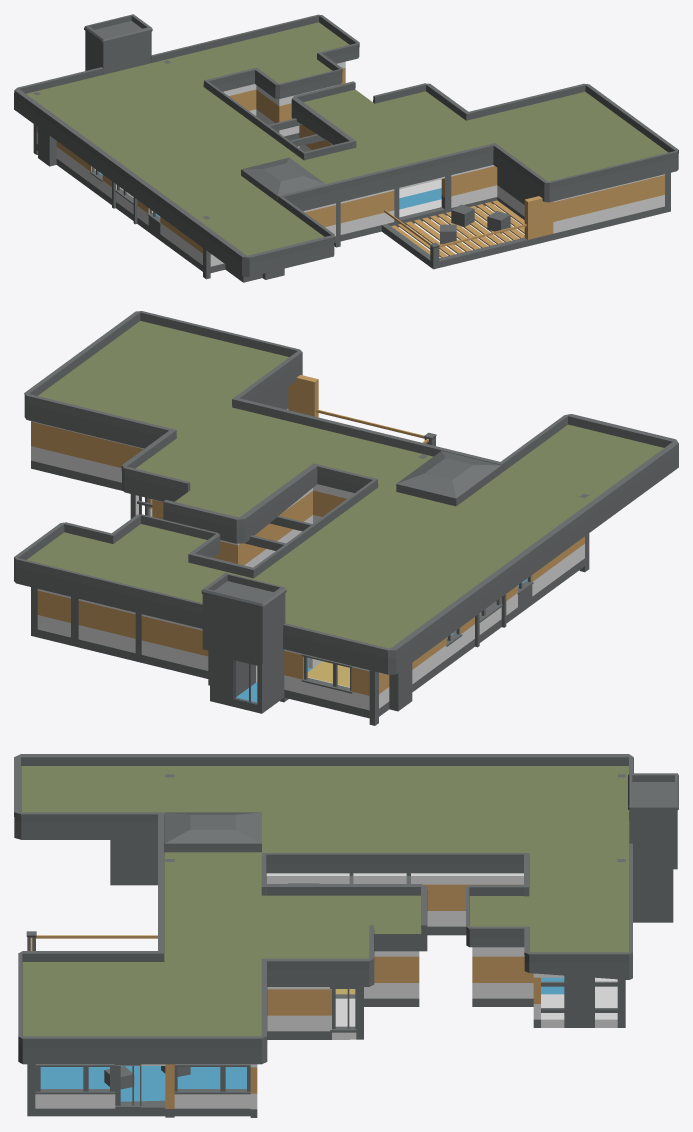
The model's file is Building_SimpleHospital_2.fbx.
3 views of the same model, one above another, from view 1: azimuth 30°, elevation 25°; view 2: azimuth 150°, elevation 25°; view 3: azimuth 270°, elevation 25° (orthographic). The views are drawn at different scales.
Visible parts, largest first — view 1: Rooftop, Building; view 2: Rooftop, Building; view 3: Rooftop, Building.
Boxes of the visible parts, bbox=[...] form: Rooftop: bbox=[14, 14, 678, 276]; Building: bbox=[33, 60, 670, 282]; Rooftop: bbox=[14, 311, 678, 674]; Building: bbox=[31, 375, 589, 725]; Rooftop: bbox=[14, 754, 678, 1064]; Building: bbox=[26, 774, 673, 1117].
Size of what is drawn, in the model's own units: 2323 by 484 by 2293.
